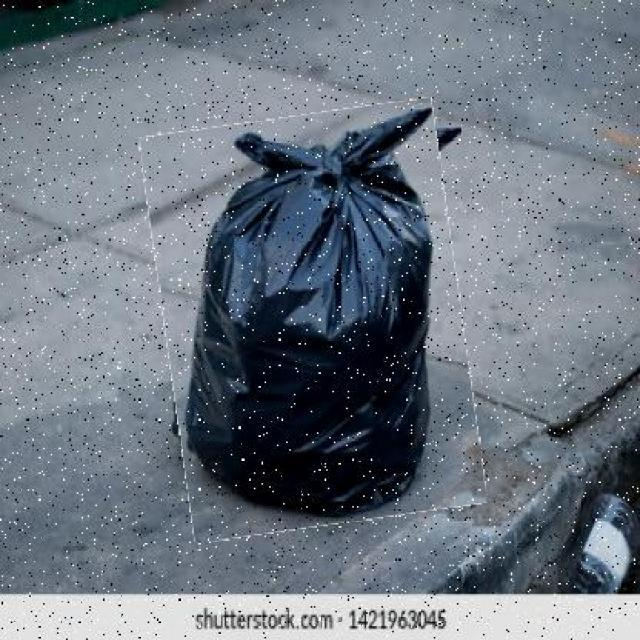waste: (152, 107, 474, 535)
